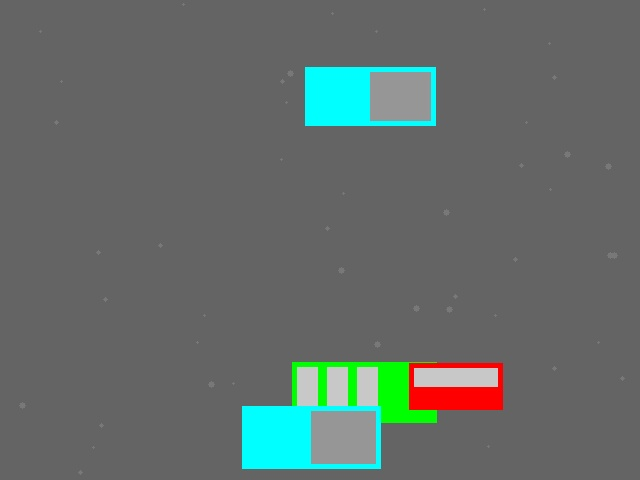bus: (292, 362, 436, 422)
car: (409, 363, 502, 409)
truck: (242, 406, 380, 468), (305, 67, 435, 125)
